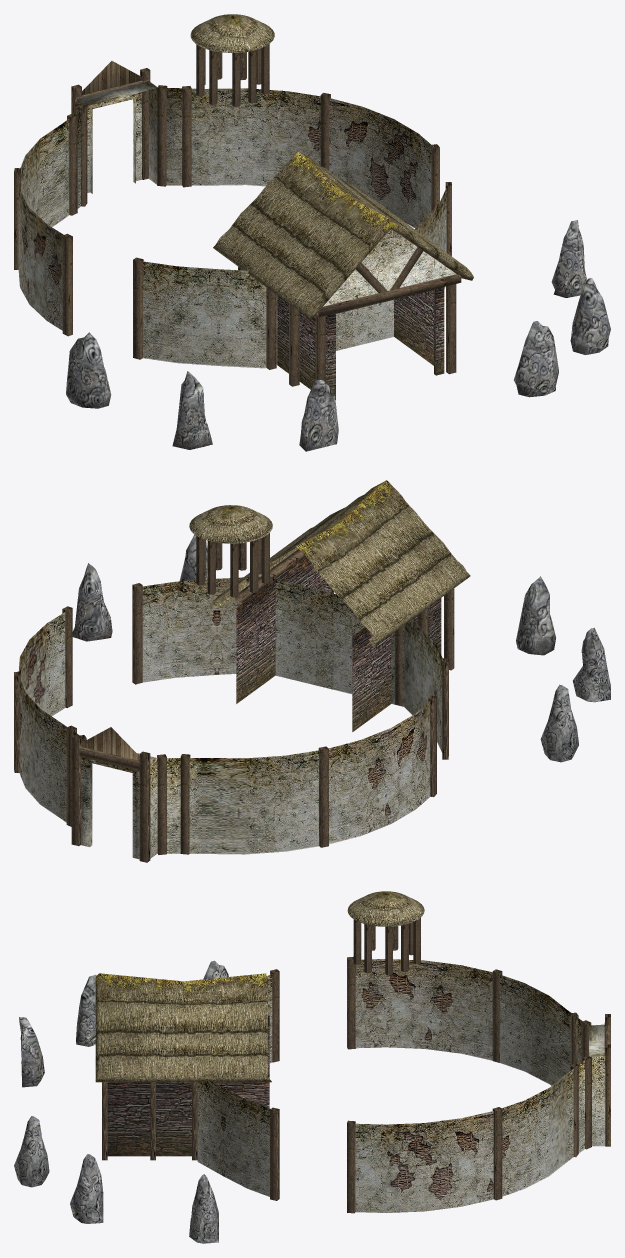
File: celt_civic_centre.dae
The picture shows the model from 3 angles, top to bottom: view 1: azimuth 30°, elevation 25°; view 2: azimuth 150°, elevation 25°; view 3: azimuth 270°, elevation 25°; orthographic projection. The views are drawn at different scales.
Parts seen in each view (by area): view 1: default11; view 2: default11; view 3: default11.
Boxes of the visible parts, x1,y1,x2,y2 form: default11: (14, 14, 610, 451); default11: (14, 480, 610, 862); default11: (14, 891, 610, 1243).
Bounding box in the file's own units: 24.63 × 27.22 × 11.96.
